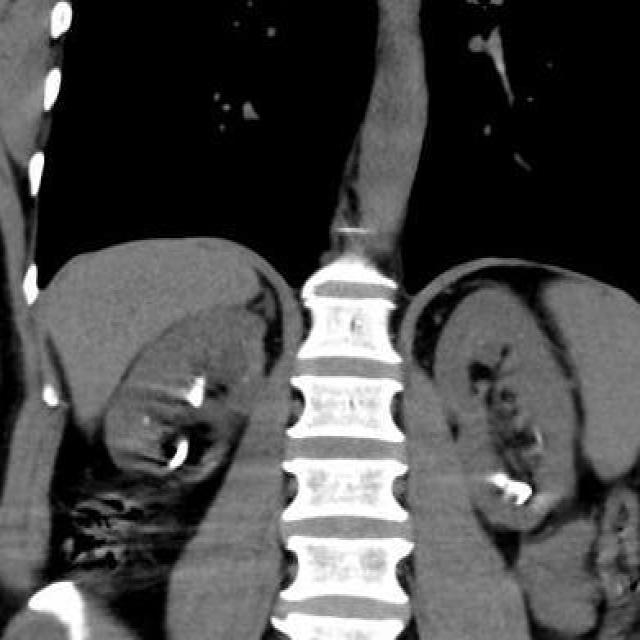Tas_Var: (504, 476, 537, 504), (166, 437, 189, 475), (184, 385, 209, 409), (489, 470, 509, 488), (193, 372, 206, 388), (139, 414, 152, 428)
